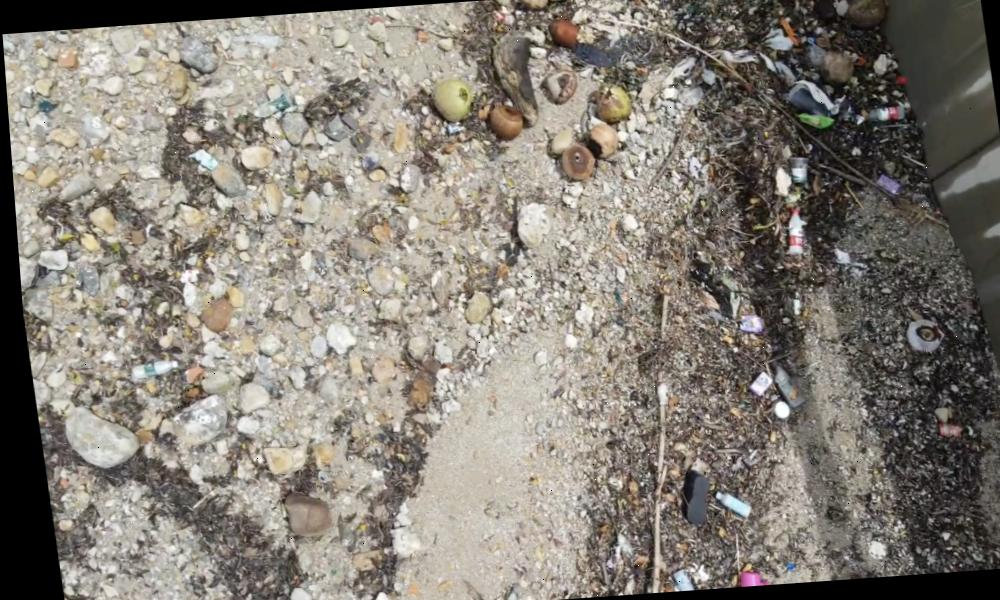plastic bottle: (706, 488, 742, 522), (783, 210, 806, 260), (862, 102, 911, 123), (664, 566, 685, 592)
